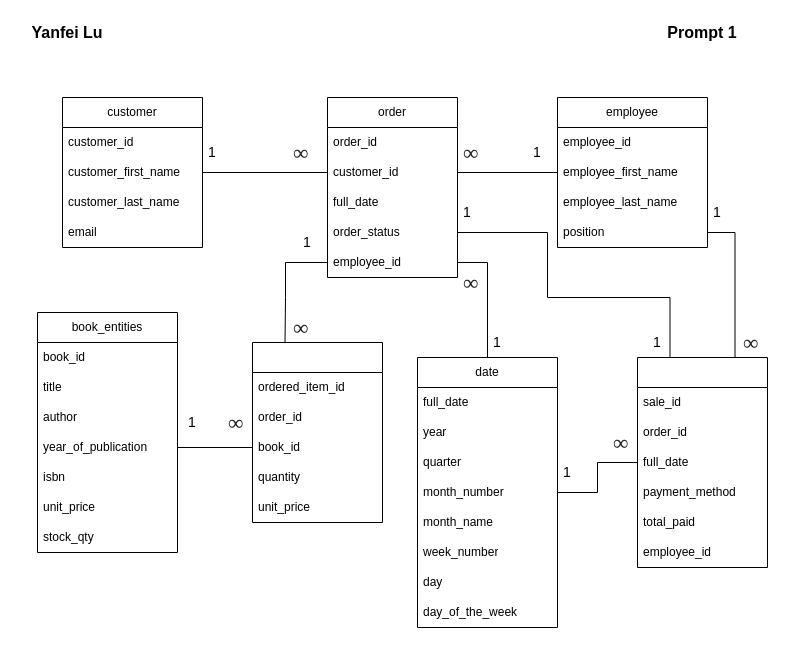
Image size: 794x645. Some labels were removed from this diagram. The box of each missing label's shape, as (x1, y1, x2, y2) in pixels:
ordered_items: (252, 342, 382, 522)
sales: (636, 356, 768, 568)
